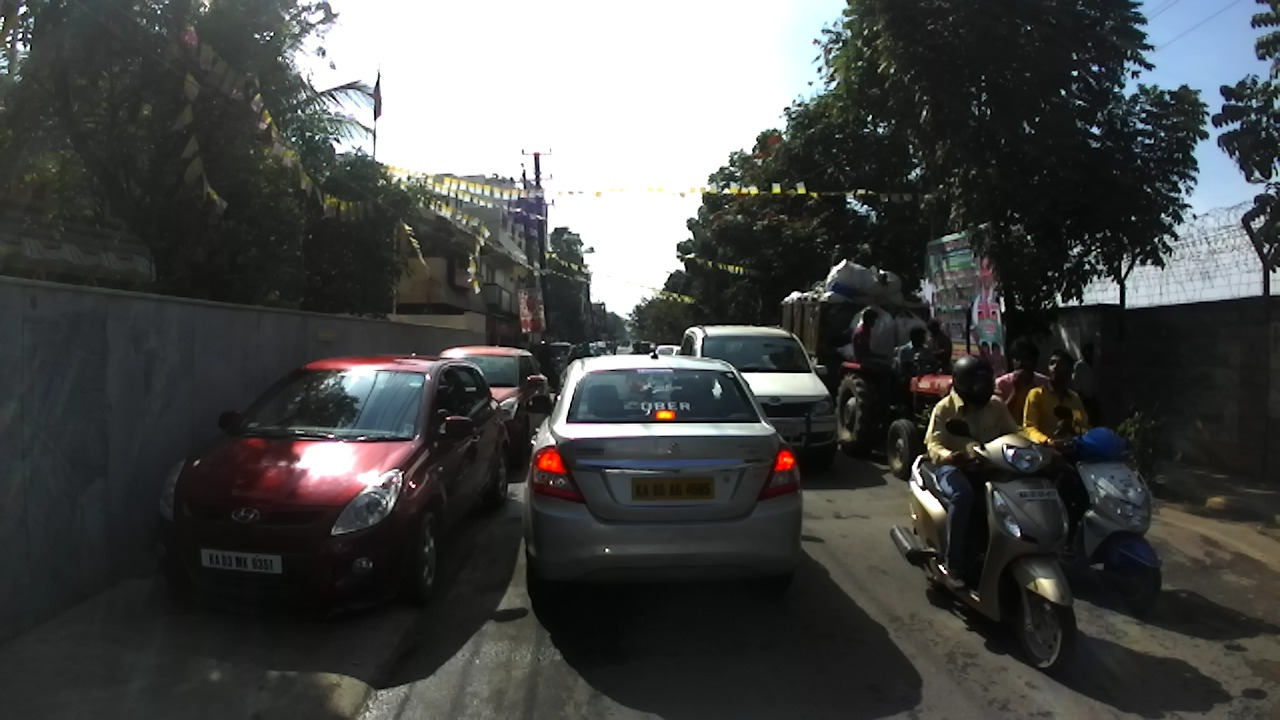autorickshaw: (639, 341, 651, 354)
car: (155, 350, 512, 614), (522, 350, 805, 603), (679, 323, 840, 468), (435, 343, 550, 467), (654, 344, 684, 358), (649, 341, 657, 352)
motorcycle: (889, 417, 1076, 674), (1050, 399, 1163, 613), (540, 354, 559, 392), (589, 347, 596, 358)
person: (1069, 339, 1104, 432), (559, 349, 570, 374), (613, 337, 617, 356)
rider: (925, 353, 1031, 585), (1019, 344, 1091, 553), (991, 337, 1052, 442), (852, 308, 901, 407), (898, 325, 940, 417), (922, 319, 951, 374), (531, 335, 559, 388), (858, 245, 887, 284), (828, 242, 842, 263), (587, 340, 596, 354)
vehicle fallback: (778, 296, 968, 480), (568, 343, 589, 361), (594, 339, 609, 356), (632, 338, 641, 351), (605, 339, 613, 351), (624, 339, 630, 347), (619, 339, 625, 347), (613, 339, 621, 345)
